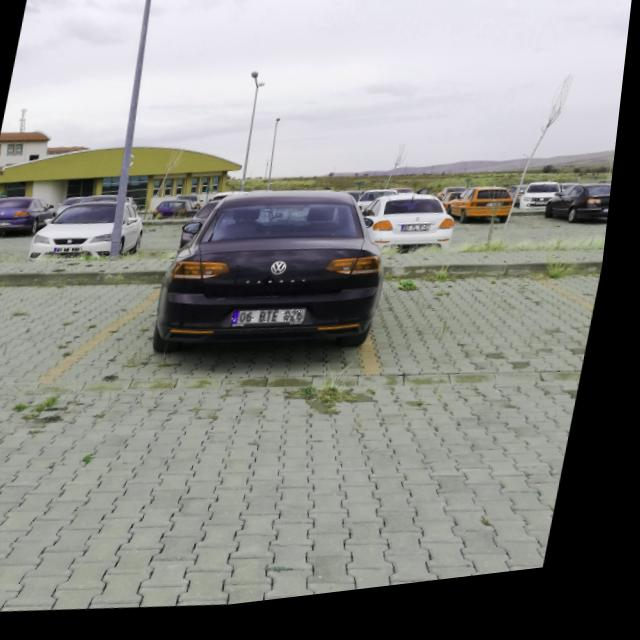license_plate: (238, 311, 314, 336), (407, 233, 436, 244), (59, 247, 88, 256)
